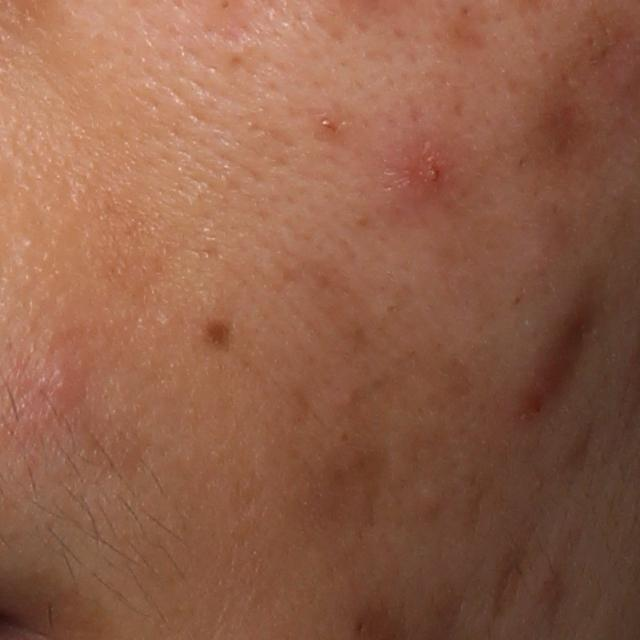nevus: (203, 318, 237, 352)
papule: (377, 132, 466, 219), (20, 346, 90, 428)
